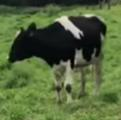cow: (8, 15, 107, 105)
